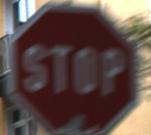Stop sign: (0, 1, 150, 134)
